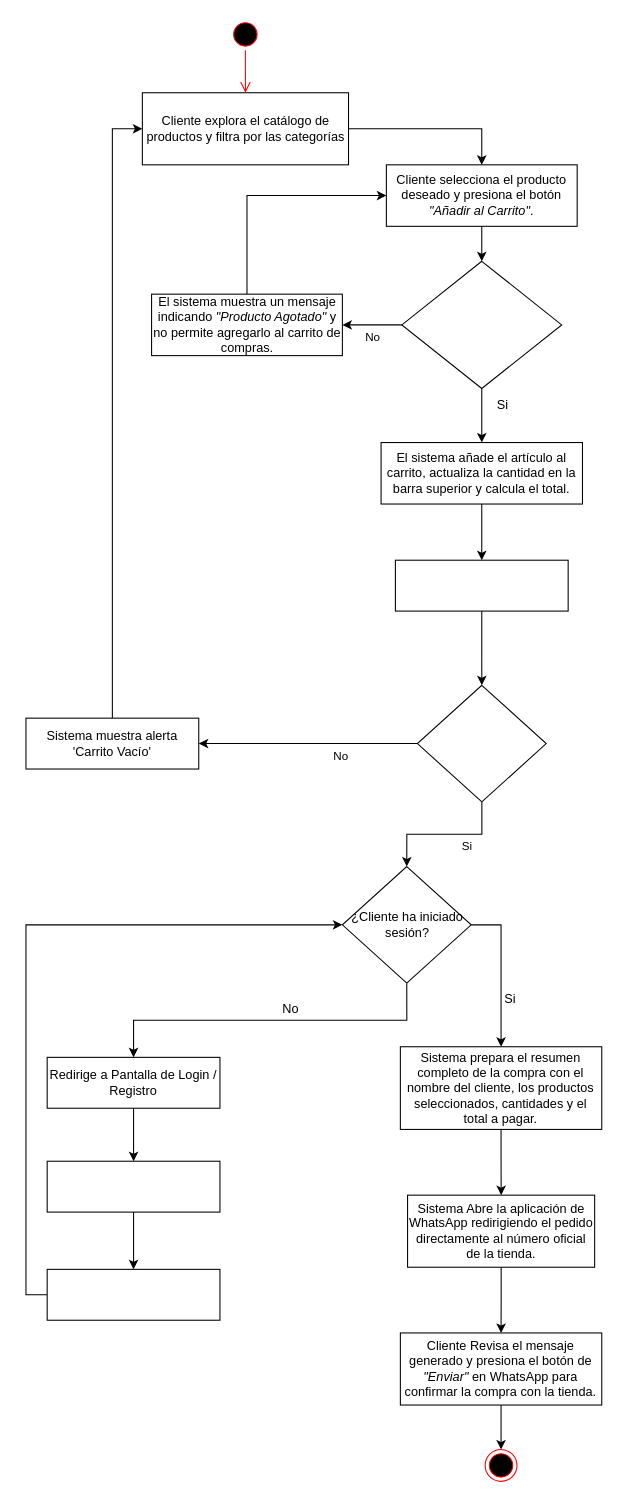
The diagram is 621 pixels wide and 1500 high, and some of its shapes have lost their labels. Here are the shapes that lost their labels. From the top down, the centre of each, then its label:
At [481,324]: "¿El producto cuenta con stock disponible?".
At [481,585]: "Cliente ingresa al Carrito y da clic en 'Comprar por WhatsApp'".
At [481,743]: "¿Carrito tiene productos?".
At [133,1186]: "Cliente ingresa credenciales o se registra".
At [133,1294]: "Sistema valida y autentica".
